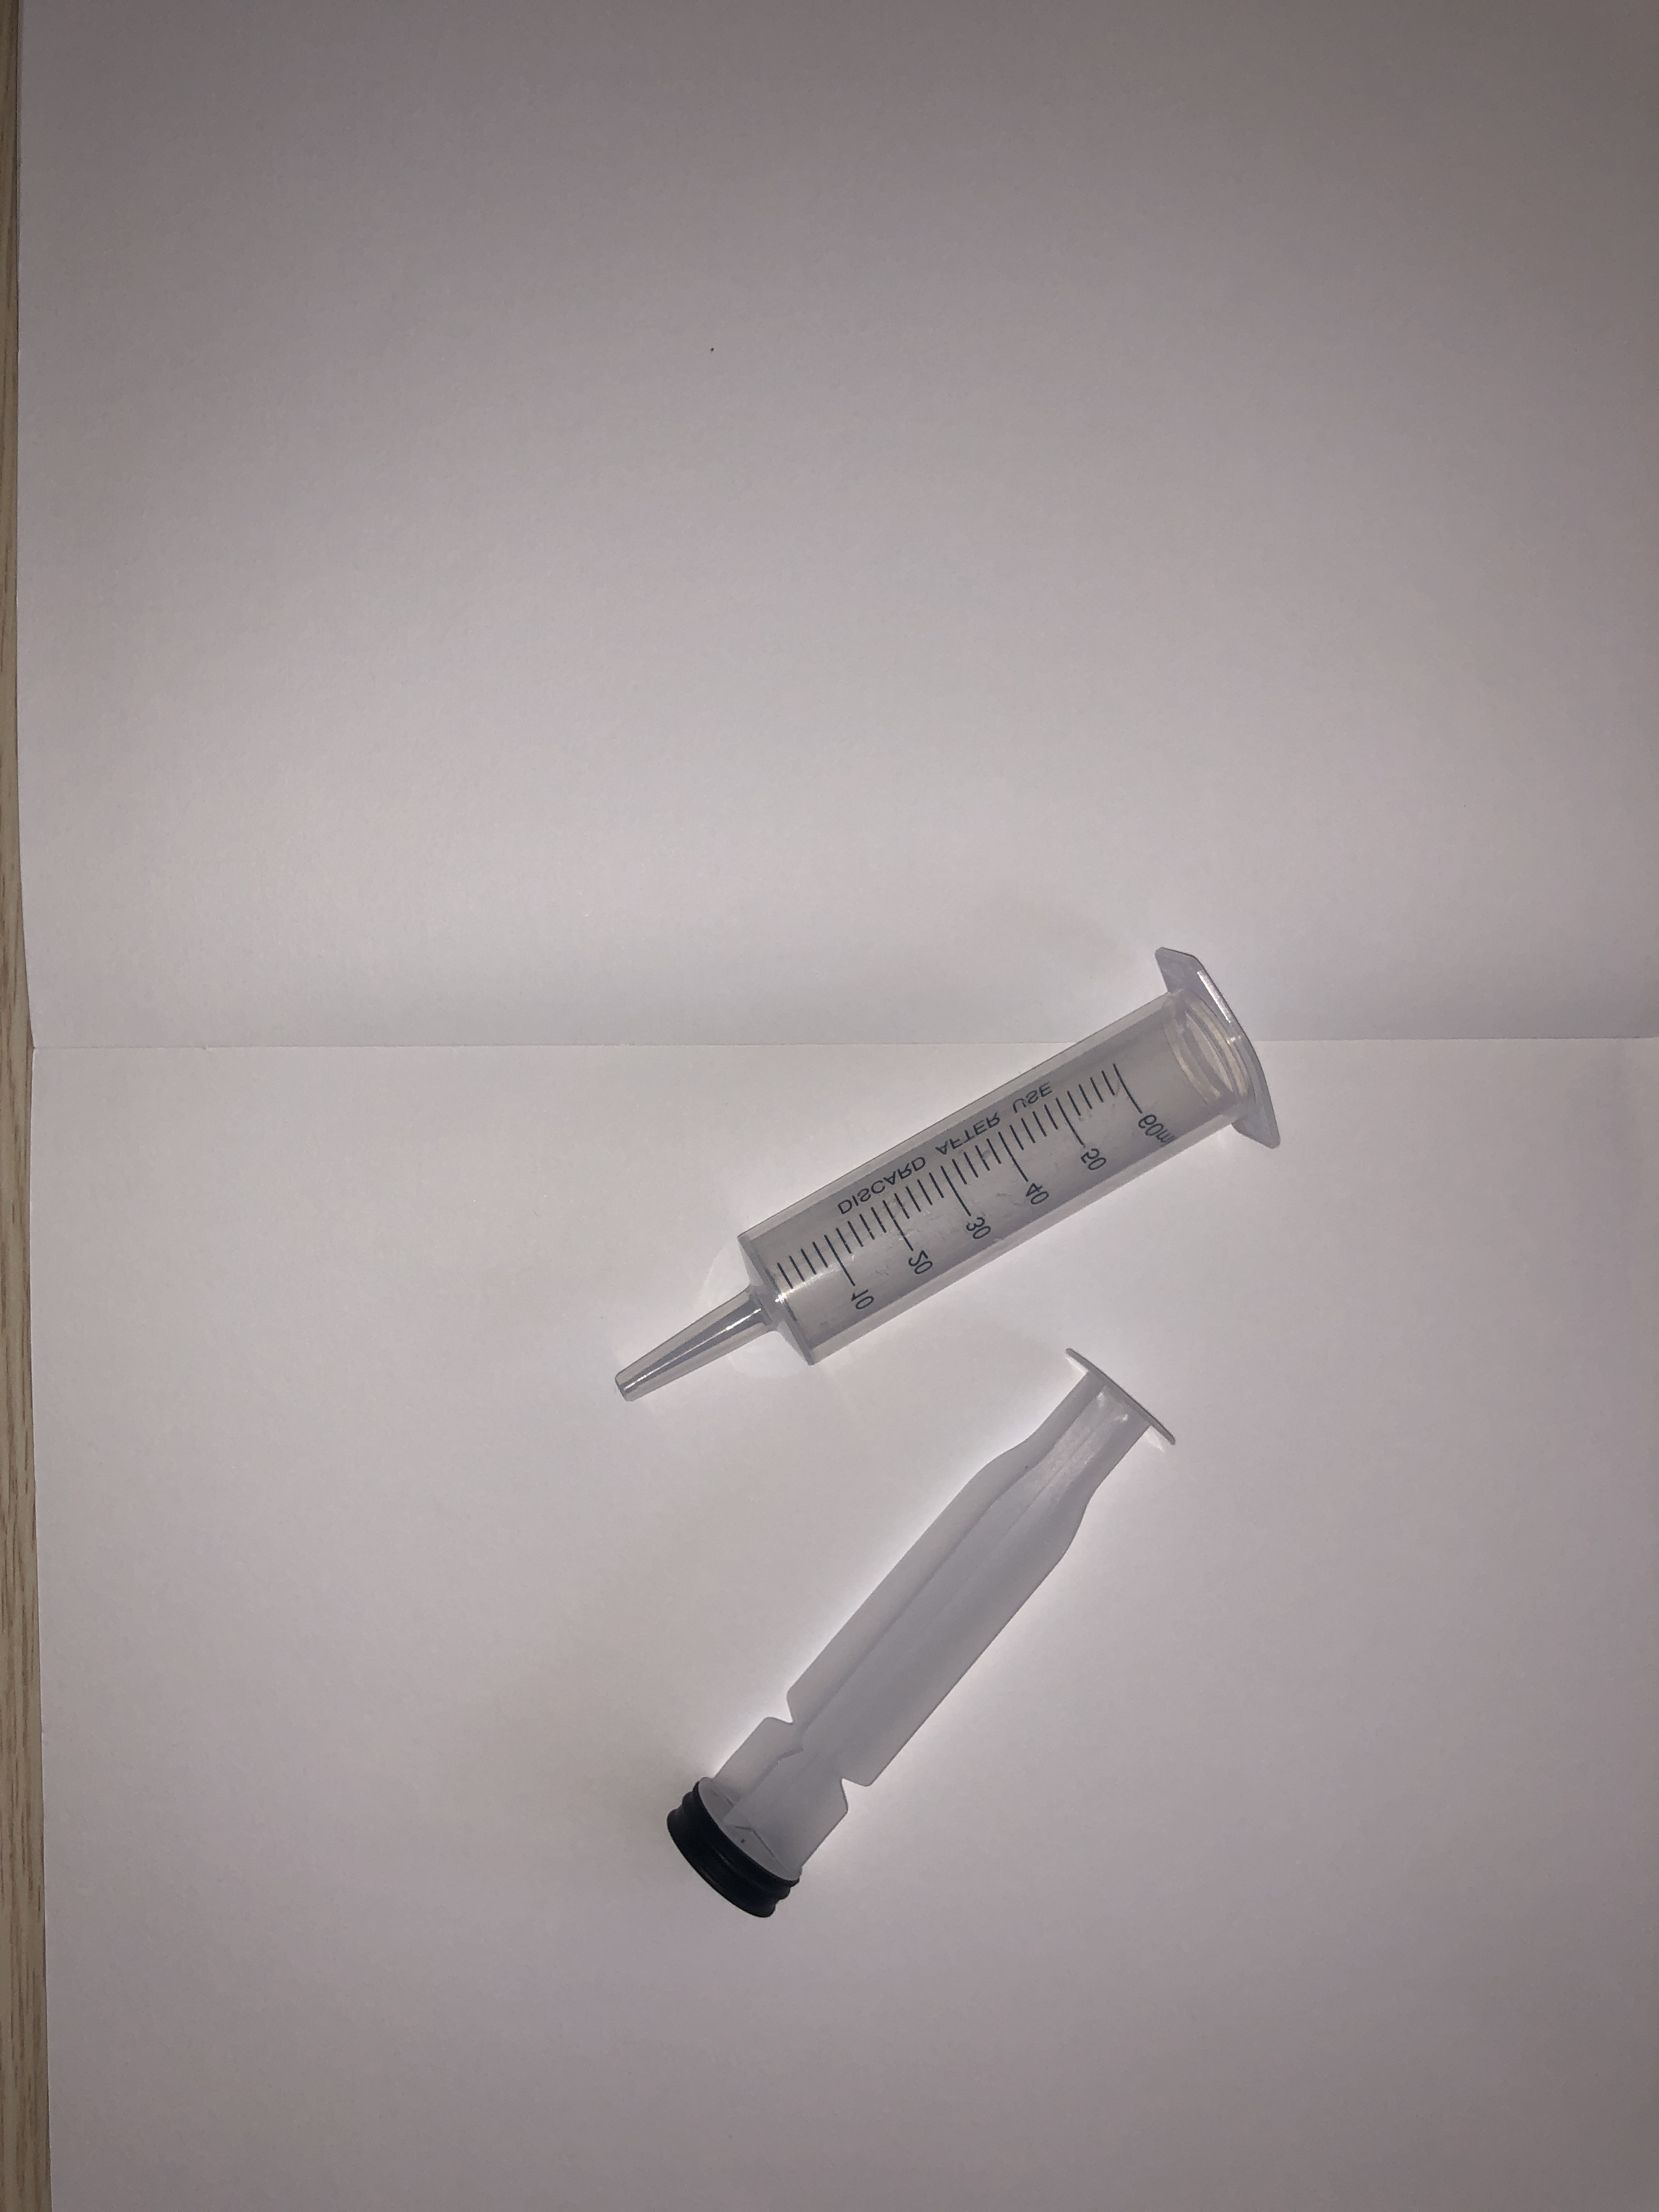plunger: (582, 1350, 1183, 1928)
syringe: (599, 941, 1293, 1406)
